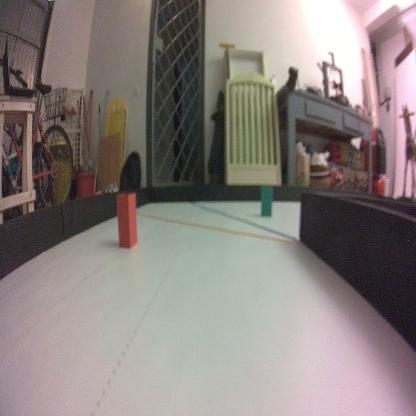green: (259, 180, 274, 221)
red: (115, 189, 140, 254)
